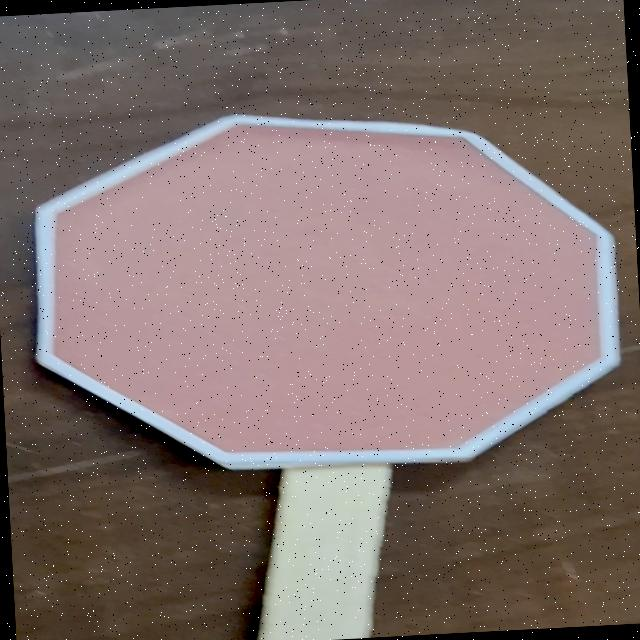Stop: (8, 68, 640, 486)
